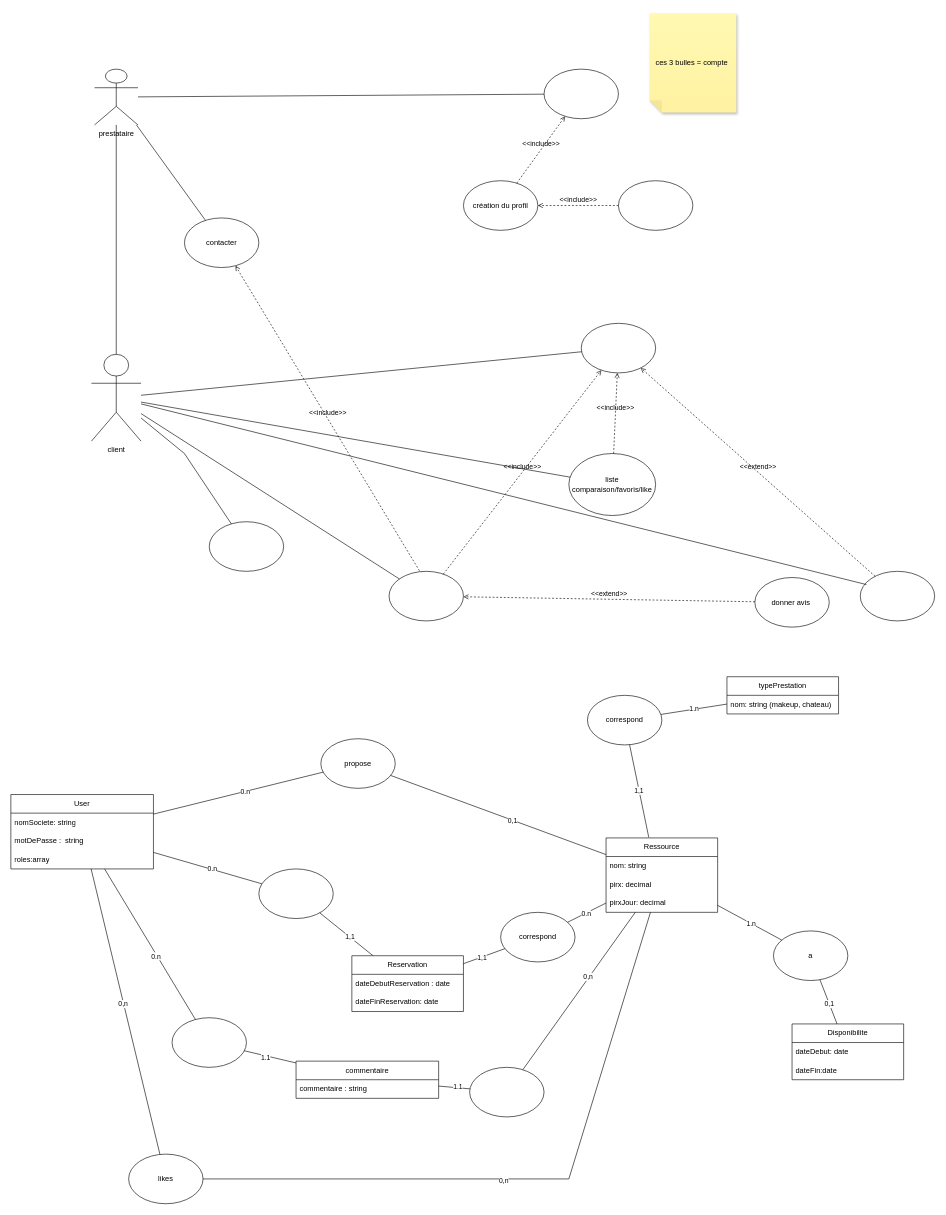
Image size: 946x1215. Some labels were removed from this diagram. Here are the shapes that lost their labels. From the top down, the centre of each, then its label:
At pixel 580 94: "inscription".
At pixel 655 205: "disponibilités/ synchronisation agenda".
At pixel 618 348: "se connecter".
At pixel 246 546: "recherche prestation/matériel".
At pixel 425 596: "louer".
At pixel 897 596: "acceder au forum".
At pixel 295 893: "demande".
At pixel 208 1042: "emmet".
At pixel 506 1092: "correpond".
